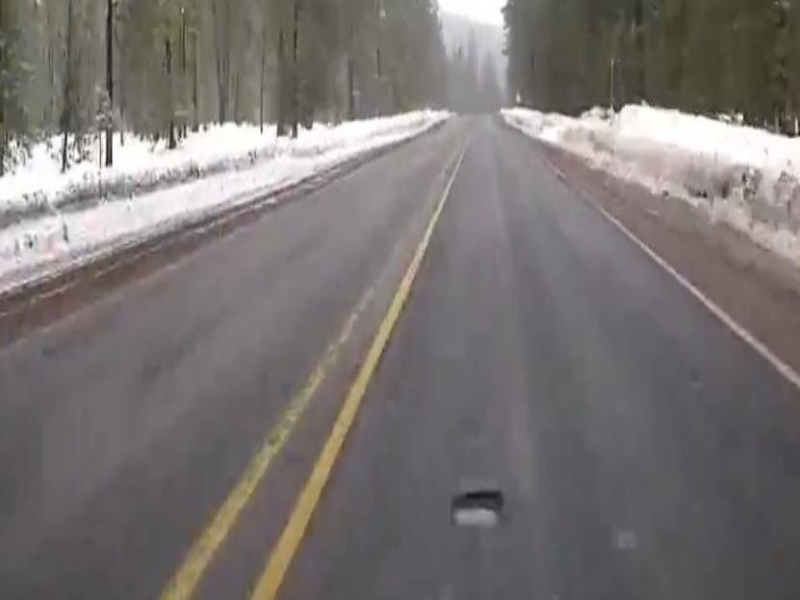pothole: (443, 488, 512, 537)
